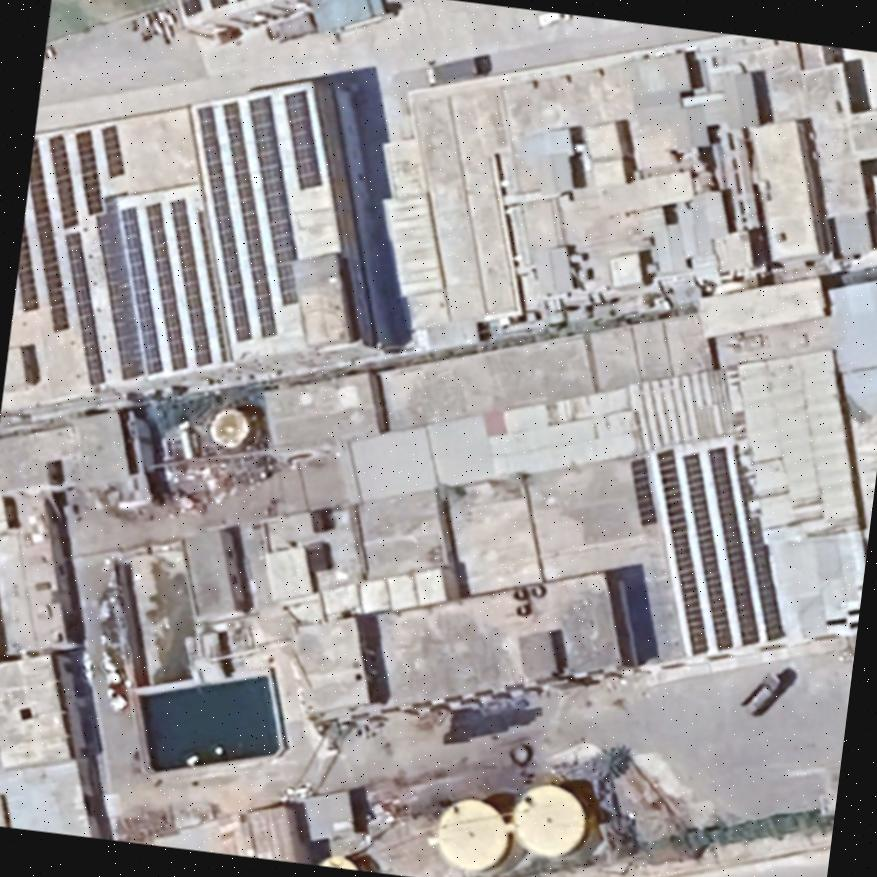Solarpanel: (3, 79, 353, 415), (621, 424, 785, 670), (168, 0, 265, 26)
